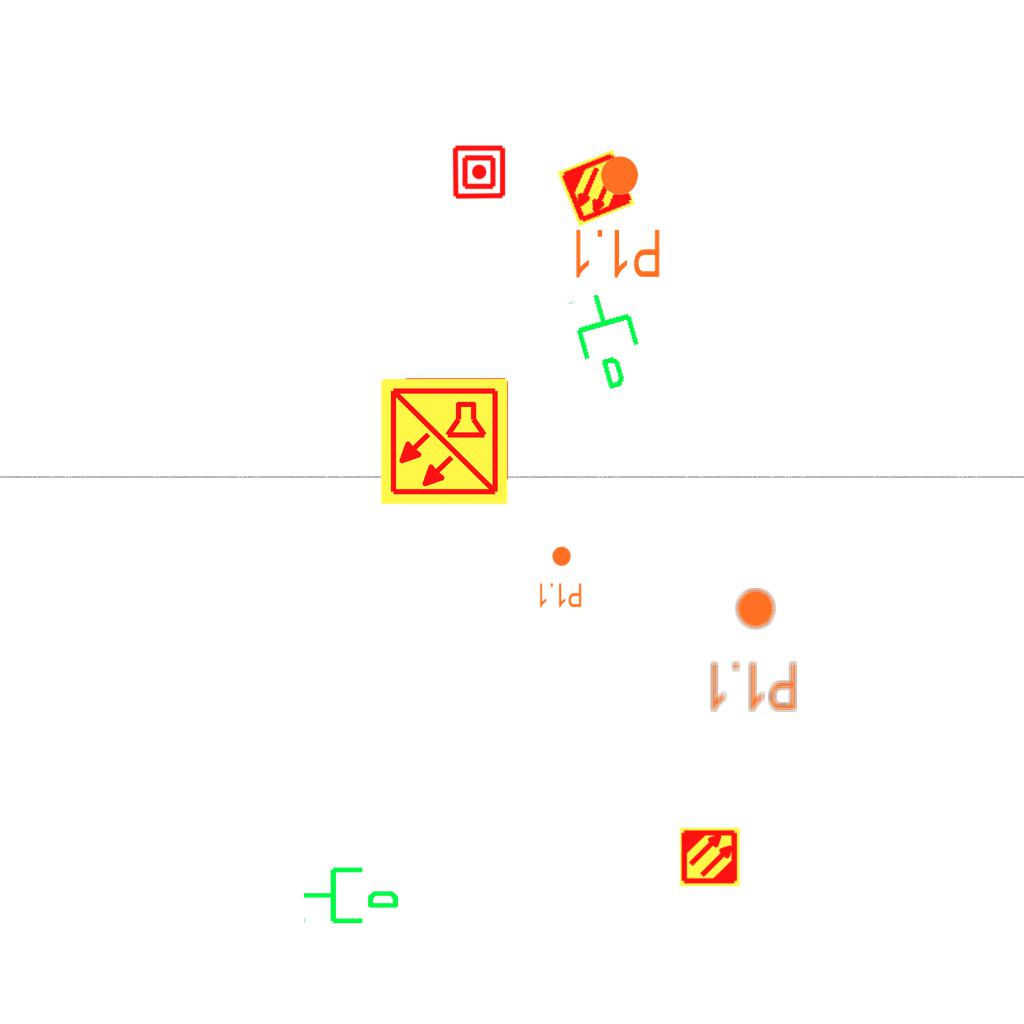ASR_Ansaugrauchmelder: (555, 147, 637, 229), (679, 826, 741, 888)
Datenanschluss_einfach: (563, 282, 658, 398), (301, 859, 401, 928)
Downlight_LED_Einbauleuchten_Flur: (706, 586, 799, 714), (570, 153, 663, 281), (537, 545, 583, 609)
NAM-Nichtautomatischer_Melder: (451, 144, 507, 200)
OKW_Multisensormelder_(Kombination_optischer_Rauch-Kahlenmonoxid_Waerme-Melder): (378, 375, 510, 507)
